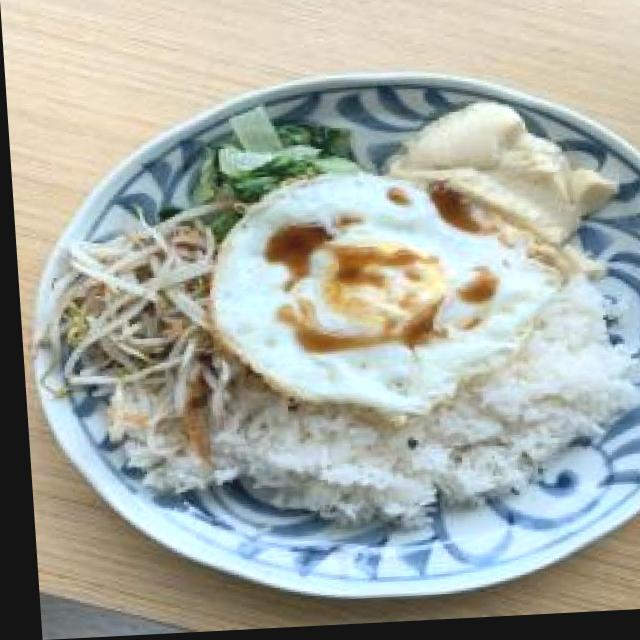fried_eggs: (231, 188, 517, 402)
mung_bean_sprouts: (67, 227, 214, 408)
rice: (231, 386, 575, 504)
